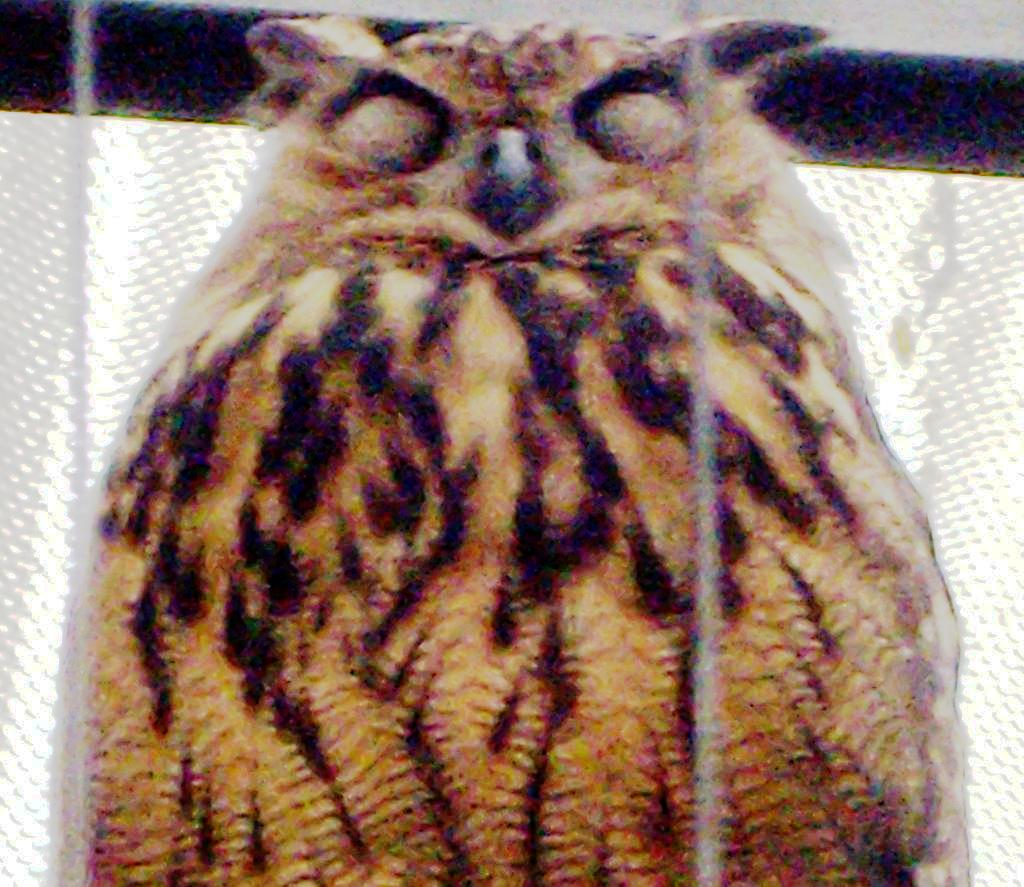Owl: (42, 16, 976, 886)
